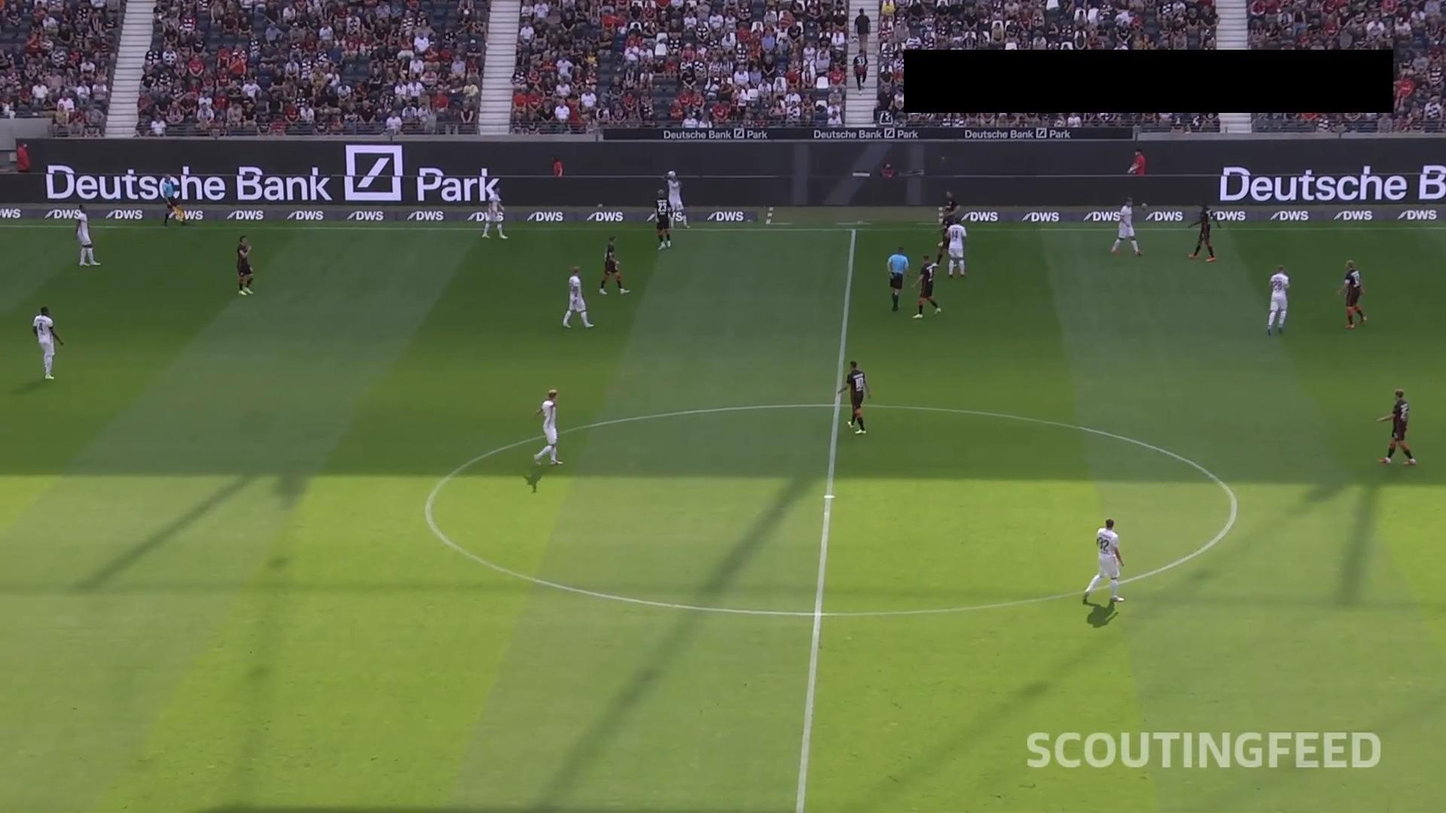ball: (667, 169, 680, 179)
player: (1085, 516, 1126, 604), (1377, 384, 1417, 470), (837, 358, 870, 437), (31, 306, 66, 379), (1336, 257, 1370, 331), (531, 385, 562, 466), (1187, 199, 1222, 264), (911, 250, 943, 321), (562, 266, 593, 331), (599, 234, 630, 297), (72, 205, 101, 271), (1111, 196, 1140, 259), (1266, 263, 1290, 336), (663, 168, 692, 228), (480, 187, 508, 244), (233, 234, 255, 299), (946, 217, 967, 279), (653, 187, 673, 251), (936, 191, 958, 248)
referee: (885, 243, 911, 315), (162, 173, 190, 228)
